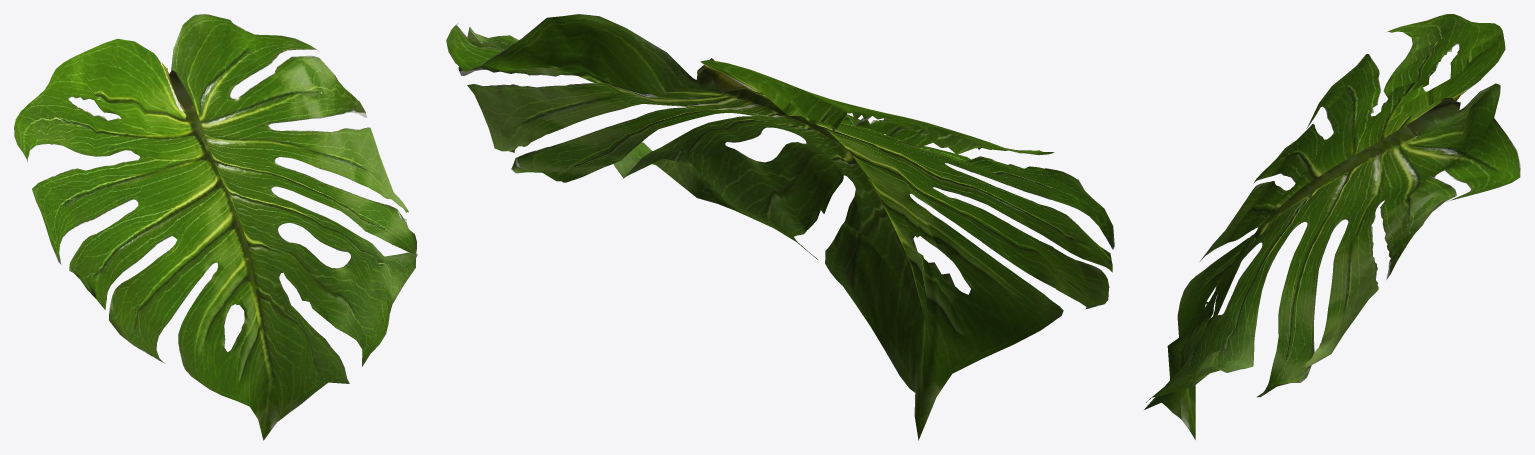
File: leaf.glb
3 renders of one model, left to right at view 1: azimuth 30°, elevation 25°; view 2: azimuth 150°, elevation 25°; view 3: azimuth 270°, elevation 25°, orthographic. The views are drawn at different scales.
Parts seen in each view (by area): view 1: Circle.022; view 2: Circle.022; view 3: Circle.022.
Boxes of the visible parts, <box> form: Circle.022: <box>14,14,417,440</box>; Circle.022: <box>446,14,1114,440</box>; Circle.022: <box>1144,14,1520,439</box>.
Size of the model in its own units: 2.68 by 2.34 by 2.05.
1 material, 1 textured.
